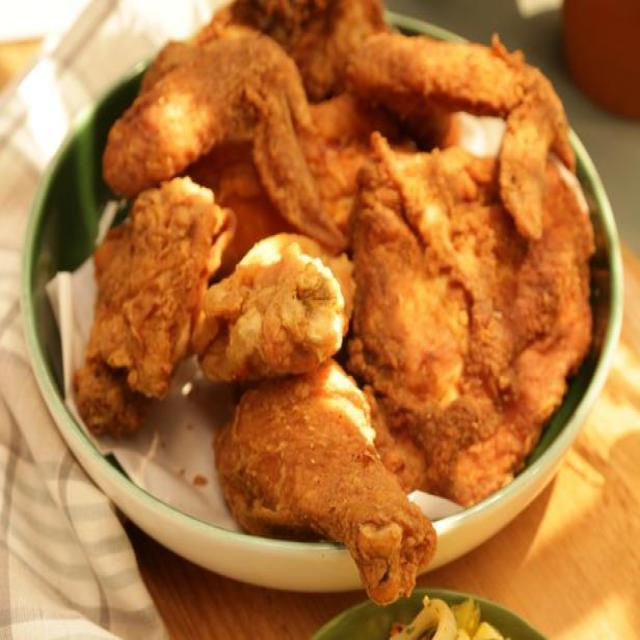Frango: (73, 0, 597, 608)
